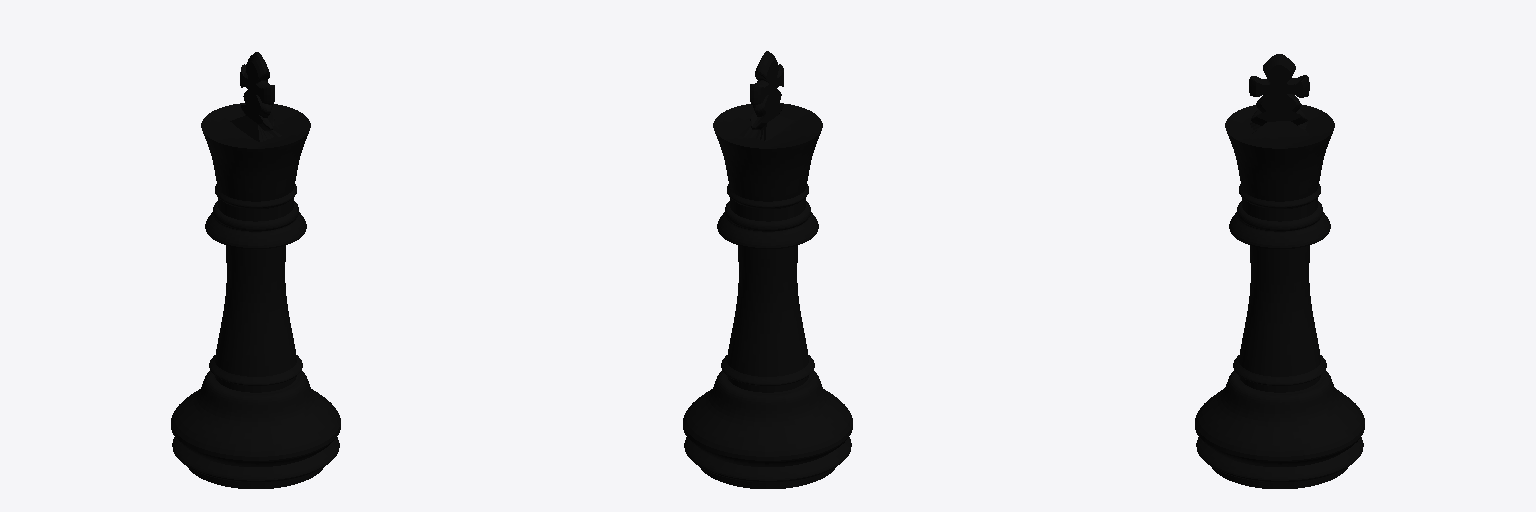
File: King.obj
The picture shows the model from 3 angles: view 1: azimuth 30°, elevation 25°; view 2: azimuth 150°, elevation 25°; view 3: azimuth 270°, elevation 25°; orthographic projection.
Visible parts, largest first — view 1: King_0; view 2: King_0; view 3: King_0.
Part boxes in pixels (left/top/right/bottom): King_0: left=171, top=52, right=340, bottom=488; King_0: left=683, top=51, right=852, bottom=488; King_0: left=1195, top=54, right=1364, bottom=488.
Bounding box in the file's own units: 54.98 × 144 × 54.98.